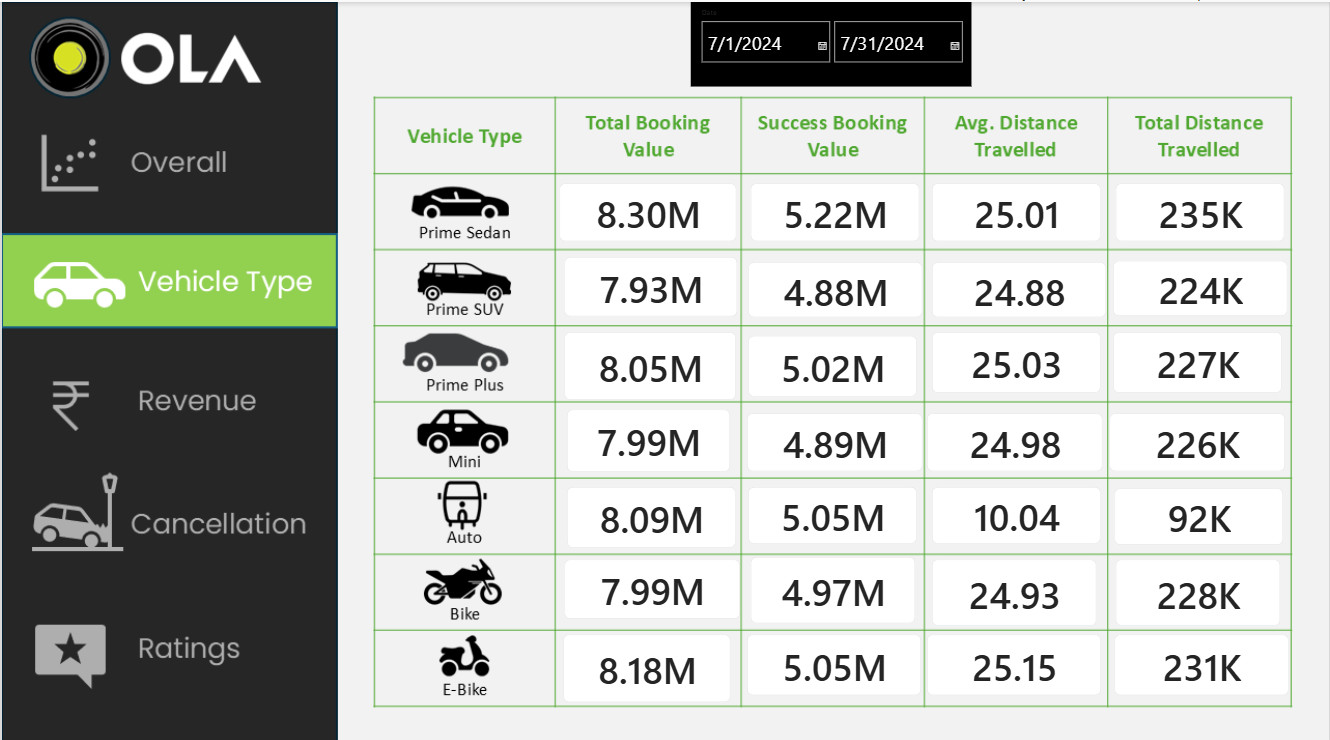

The dashboard page shown, as its layout file describes it:
{"tool":"powerbi","page":{"name":"Vechicle Type","canvas":[1920,1080],"ordinal":1},"visuals":[{"type":"actionButton","box":[0,334,482,136],"z":0},{"type":"actionButton","box":[0,514,482,136],"z":1000},{"type":"actionButton","box":[0,650,482,172],"z":2000},{"type":"actionButton","box":[0,854,482,160],"z":3000},{"type":"actionButton","box":[320.3,280.5,322.1,108.6],"z":4000},{"type":"cardVisual","fields":{"Data":["July.Total Booking Value Decimal"]},"box":[808,262,256,84],"z":5000},{"type":"cardVisual","fields":{"Data":["July.Total Booking Value Decimal"]},"box":[814,370,250,86],"z":6000},{"type":"cardVisual","fields":{"Data":["July.Total Booking Value Decimal"]},"box":[814,478,248,98],"z":7000},{"type":"cardVisual","fields":{"Data":["July.Total Booking Value Decimal"]},"box":[818,590,236,90],"z":8000},{"type":"cardVisual","fields":{"Data":["July.Total Booking Value Decimal"]},"box":[818,702,244,88],"z":9000},{"type":"cardVisual","fields":{"Data":["July.Total Booking Value Decimal"]},"box":[814,808,254,86],"z":10000},{"type":"cardVisual","fields":{"Data":["July.Total Booking Value Decimal"]},"box":[812,916,242,98],"z":11000},{"type":"cardVisual","fields":{"Data":["July.Total Booking Value Decimal"]},"box":[1084,262,244,84],"z":12000},{"type":"cardVisual","fields":{"Data":["July.Total Booking Value Decimal"]},"box":[1080,484,244,88],"z":13000},{"type":"cardVisual","fields":{"Data":["July.Total Booking Value Decimal"]},"box":[1078,596,254,84],"z":14000},{"type":"cardVisual","fields":{"Data":["July.Total Booking Value Decimal"]},"box":[1080,702,244,82],"z":15000},{"type":"cardVisual","fields":{"Data":["July.Total Booking Value Decimal"]},"box":[1084,804,238,96],"z":16000},{"type":"cardVisual","fields":{"Data":["July.Total Booking Value Decimal"]},"box":[1078,916,252,88],"z":17000},{"type":"cardVisual","fields":{"Data":["July.Total Booking Value Decimal"]},"box":[1080,376,252,80],"z":18000},{"type":"cardVisual","fields":{"Data":["Avg(July.Ride_Distance)"]},"box":[1346,262,244,84],"z":19000},{"type":"cardVisual","fields":{"Data":["Avg(July.Ride_Distance)"]},"box":[1346,376,252,80],"z":20000},{"type":"cardVisual","fields":{"Data":["Avg(July.Ride_Distance)"]},"box":[1346,478,244,88],"z":21000},{"type":"cardVisual","fields":{"Data":["Avg(July.Ride_Distance)"]},"box":[1340,596,254,84],"z":22000},{"type":"cardVisual","fields":{"Data":["Avg(July.Ride_Distance)"]},"box":[1346,702,244,82],"z":23000},{"type":"cardVisual","fields":{"Data":["Avg(July.Ride_Distance)"]},"box":[1346,808,238,96],"z":24000},{"type":"cardVisual","fields":{"Data":["Avg(July.Ride_Distance)"]},"box":[1340,916,252,88],"z":25000},{"type":"cardVisual","fields":{"Data":["Sum(July.Ride_Distance)"]},"box":[1612,262,244,84],"z":26000},{"type":"cardVisual","fields":{"Data":["Sum(July.Ride_Distance)"]},"box":[1608,374,252,80],"z":27000},{"type":"cardVisual","fields":{"Data":["Sum(July.Ride_Distance)"]},"box":[1608,478,244,88],"z":28000},{"type":"cardVisual","fields":{"Data":["Sum(July.Ride_Distance)"]},"box":[1604,596,254,84],"z":29000},{"type":"cardVisual","fields":{"Data":["Sum(July.Ride_Distance)"]},"box":[1610,704,244,82],"z":30000},{"type":"cardVisual","fields":{"Data":["Sum(July.Ride_Distance)"]},"box":[1612,808,238,96],"z":31000},{"type":"cardVisual","fields":{"Data":["Sum(July.Ride_Distance)"]},"box":[1610,916,252,88],"z":32000},{"type":"slicer","title":"Date","fields":{"Values":["July.Date"]},"box":[998,0,406,122],"z":33000},{"type":"actionButton","box":[0,158,482,152],"z":34000}]}

Visuals, with their boxes on the page's 1920x1080 design canvas (x1, y1, x2, y2). These are canvas units, not pixel positions in the 1330x740 screenshot, which may show the page scaled, cropped or inside an application window:
actionButton: bbox=[0, 334, 482, 470]
actionButton: bbox=[0, 514, 482, 650]
actionButton: bbox=[0, 650, 482, 822]
actionButton: bbox=[0, 854, 482, 1014]
actionButton: bbox=[320, 280, 642, 389]
cardVisual - July.Total Booking Value Decimal: bbox=[808, 262, 1064, 346]
cardVisual - July.Total Booking Value Decimal: bbox=[814, 370, 1064, 456]
cardVisual - July.Total Booking Value Decimal: bbox=[814, 478, 1062, 576]
cardVisual - July.Total Booking Value Decimal: bbox=[818, 590, 1054, 680]
cardVisual - July.Total Booking Value Decimal: bbox=[818, 702, 1062, 790]
cardVisual - July.Total Booking Value Decimal: bbox=[814, 808, 1068, 894]
cardVisual - July.Total Booking Value Decimal: bbox=[812, 916, 1054, 1014]
cardVisual - July.Total Booking Value Decimal: bbox=[1084, 262, 1328, 346]
cardVisual - July.Total Booking Value Decimal: bbox=[1080, 484, 1324, 572]
cardVisual - July.Total Booking Value Decimal: bbox=[1078, 596, 1332, 680]
cardVisual - July.Total Booking Value Decimal: bbox=[1080, 702, 1324, 784]
cardVisual - July.Total Booking Value Decimal: bbox=[1084, 804, 1322, 900]
cardVisual - July.Total Booking Value Decimal: bbox=[1078, 916, 1330, 1004]
cardVisual - July.Total Booking Value Decimal: bbox=[1080, 376, 1332, 456]
cardVisual - Avg(July.Ride_Distance): bbox=[1346, 262, 1590, 346]
cardVisual - Avg(July.Ride_Distance): bbox=[1346, 376, 1598, 456]
cardVisual - Avg(July.Ride_Distance): bbox=[1346, 478, 1590, 566]
cardVisual - Avg(July.Ride_Distance): bbox=[1340, 596, 1594, 680]
cardVisual - Avg(July.Ride_Distance): bbox=[1346, 702, 1590, 784]
cardVisual - Avg(July.Ride_Distance): bbox=[1346, 808, 1584, 904]
cardVisual - Avg(July.Ride_Distance): bbox=[1340, 916, 1592, 1004]
cardVisual - Sum(July.Ride_Distance): bbox=[1612, 262, 1856, 346]
cardVisual - Sum(July.Ride_Distance): bbox=[1608, 374, 1860, 454]
cardVisual - Sum(July.Ride_Distance): bbox=[1608, 478, 1852, 566]
cardVisual - Sum(July.Ride_Distance): bbox=[1604, 596, 1858, 680]
cardVisual - Sum(July.Ride_Distance): bbox=[1610, 704, 1854, 786]
cardVisual - Sum(July.Ride_Distance): bbox=[1612, 808, 1850, 904]
cardVisual - Sum(July.Ride_Distance): bbox=[1610, 916, 1862, 1004]
"Date" slicer: bbox=[998, 0, 1404, 122]
actionButton: bbox=[0, 158, 482, 310]
